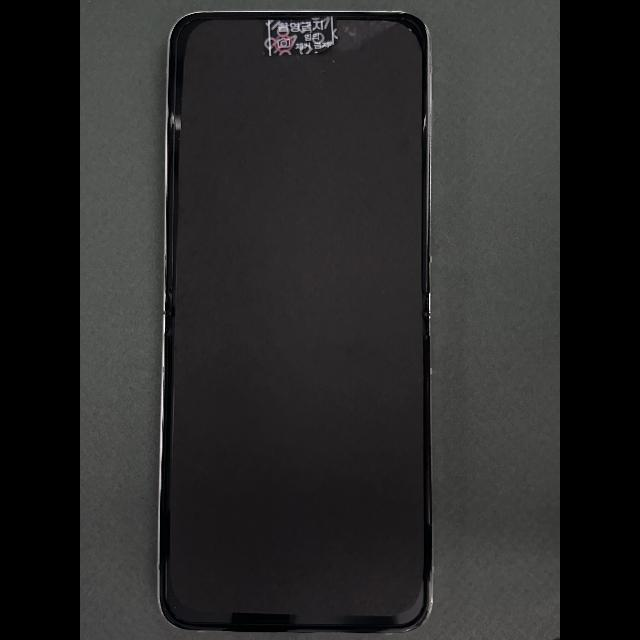phone: (156, 10, 433, 634)
sticker: (263, 16, 339, 57)
